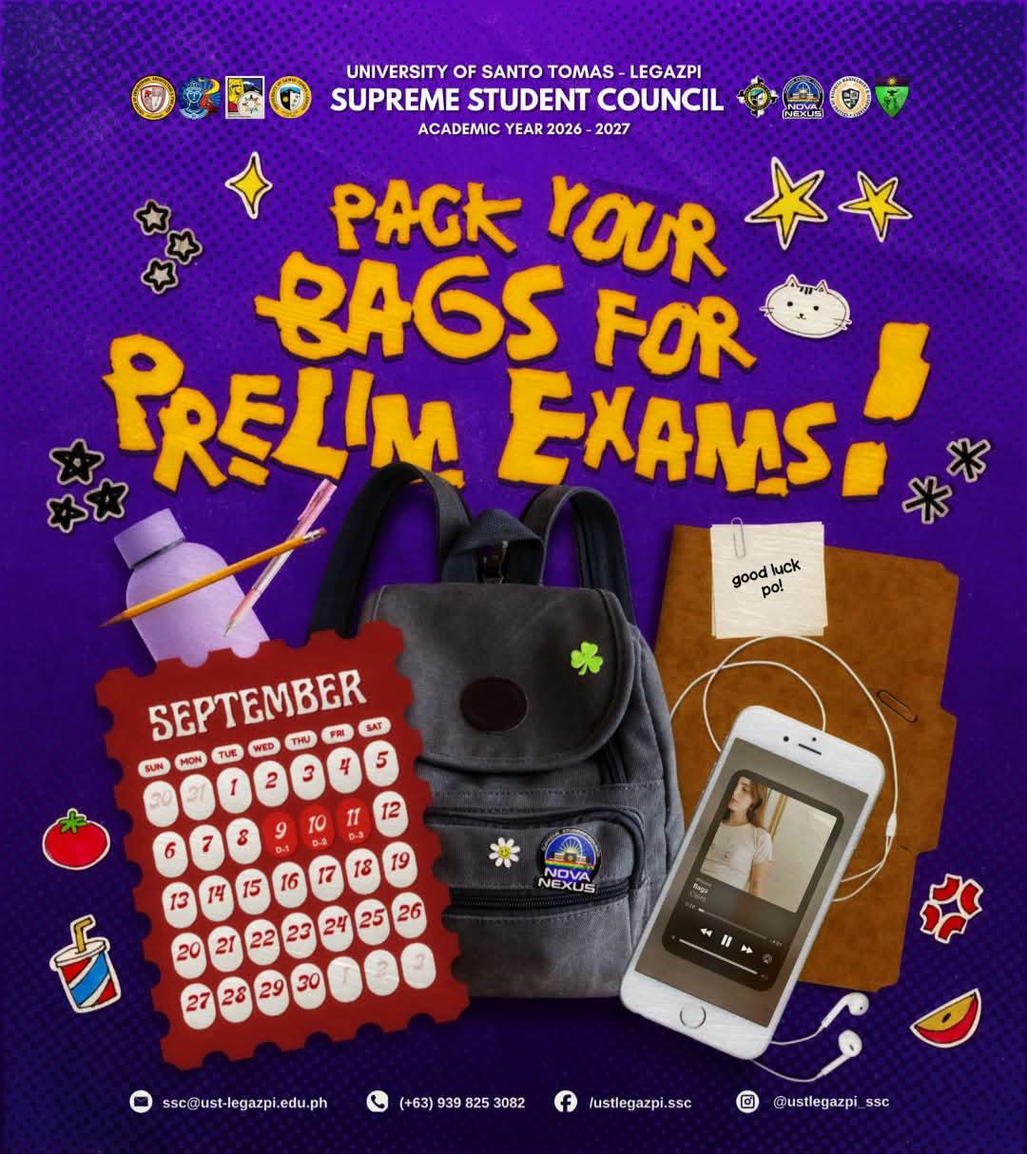embellishment: (88, 461, 971, 1085), (42, 429, 136, 538), (897, 429, 999, 529), (739, 151, 831, 257), (128, 196, 210, 300), (48, 909, 126, 1018), (759, 266, 857, 345), (835, 165, 922, 252), (916, 865, 993, 947), (902, 981, 988, 1050), (219, 146, 283, 227), (40, 803, 113, 874), (125, 1088, 157, 1115), (733, 1088, 762, 1115), (363, 1088, 391, 1115), (552, 1087, 578, 1115)
logo: (127, 72, 177, 123), (780, 72, 827, 123), (222, 73, 267, 122), (829, 73, 874, 121), (735, 71, 779, 120), (180, 71, 222, 122), (270, 72, 312, 120), (873, 73, 913, 119)
text: (94, 169, 943, 509), (329, 60, 734, 140), (729, 555, 805, 603), (769, 1092, 896, 1114), (160, 1096, 330, 1112), (395, 1092, 528, 1112), (584, 1092, 695, 1112)
